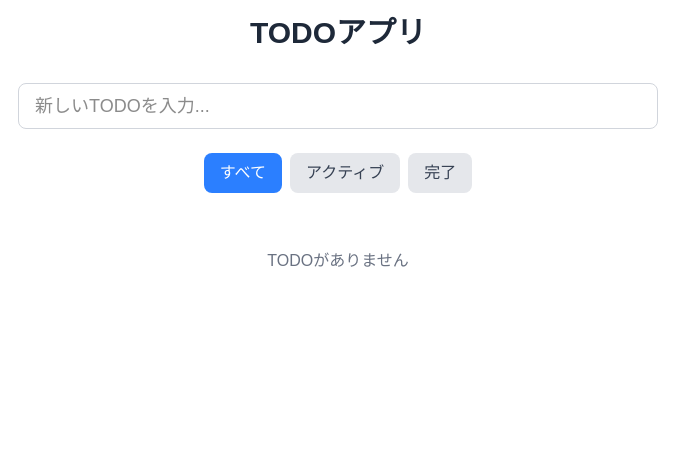
Test case: TodoApp 統合テスト › エッジケース › 複数のTODOを素早く追加してもすべて保存される
Type "タスク1" into the field with placeholder "新しいTODOを入力..." at (338, 106), box [18,83,658,129]
Then press Enter
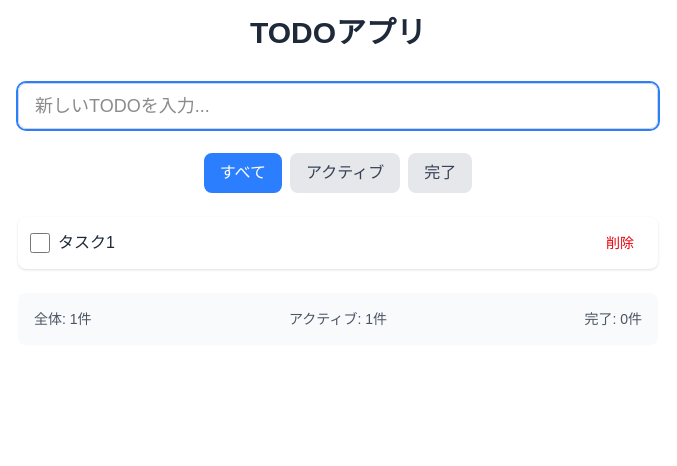
Type "タスク2" into the field with placeholder "新しいTODOを入力..." at (338, 106), box [18,83,658,129]
Then press Enter
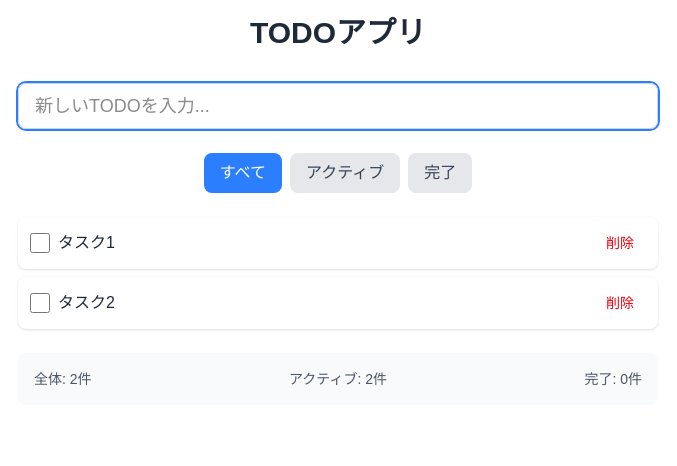
Type "タスク3" into the field with placeholder "新しいTODOを入力..." at (338, 106), box [18,83,658,129]
Then press Enter
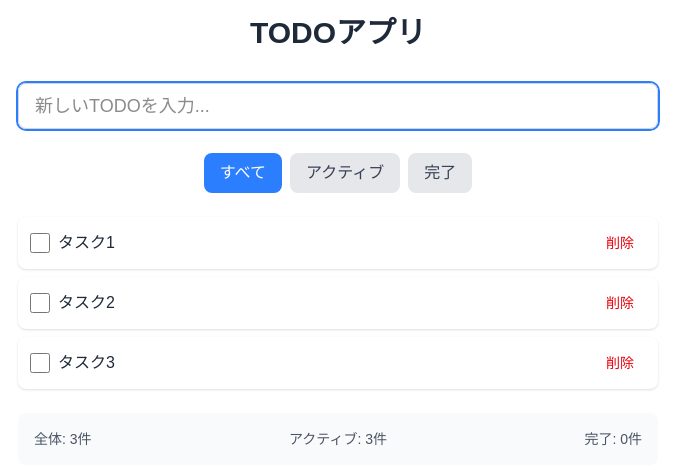
Result: the text "タスク1" is shown at [58,234,115,251]
Result: the text "タスク2" is shown at [58,294,115,311]
Result: the text "タスク3" is shown at [58,354,115,371]
